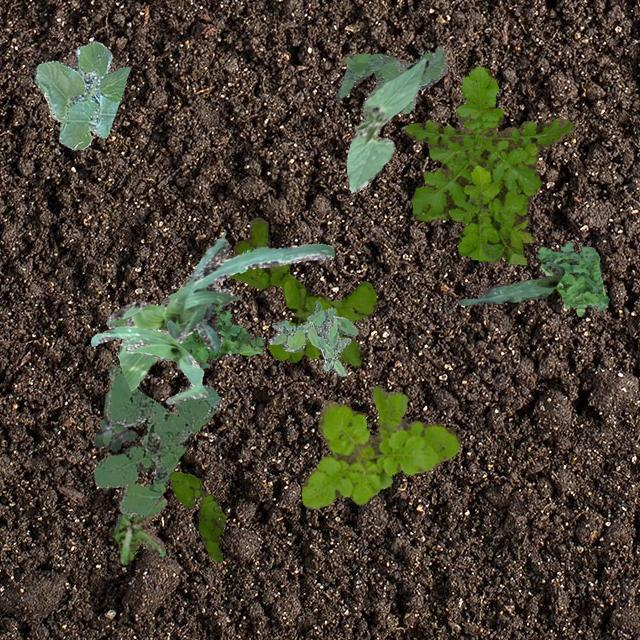crop: (105, 230, 334, 390), (346, 58, 428, 192), (34, 40, 130, 148), (90, 318, 208, 402), (458, 260, 564, 304)
weed: (404, 65, 572, 264), (224, 216, 376, 366), (301, 384, 458, 508), (94, 364, 218, 516), (334, 46, 448, 112), (268, 298, 358, 376), (176, 304, 264, 368), (536, 242, 608, 316), (168, 472, 224, 560), (114, 496, 166, 564), (92, 390, 134, 450)
